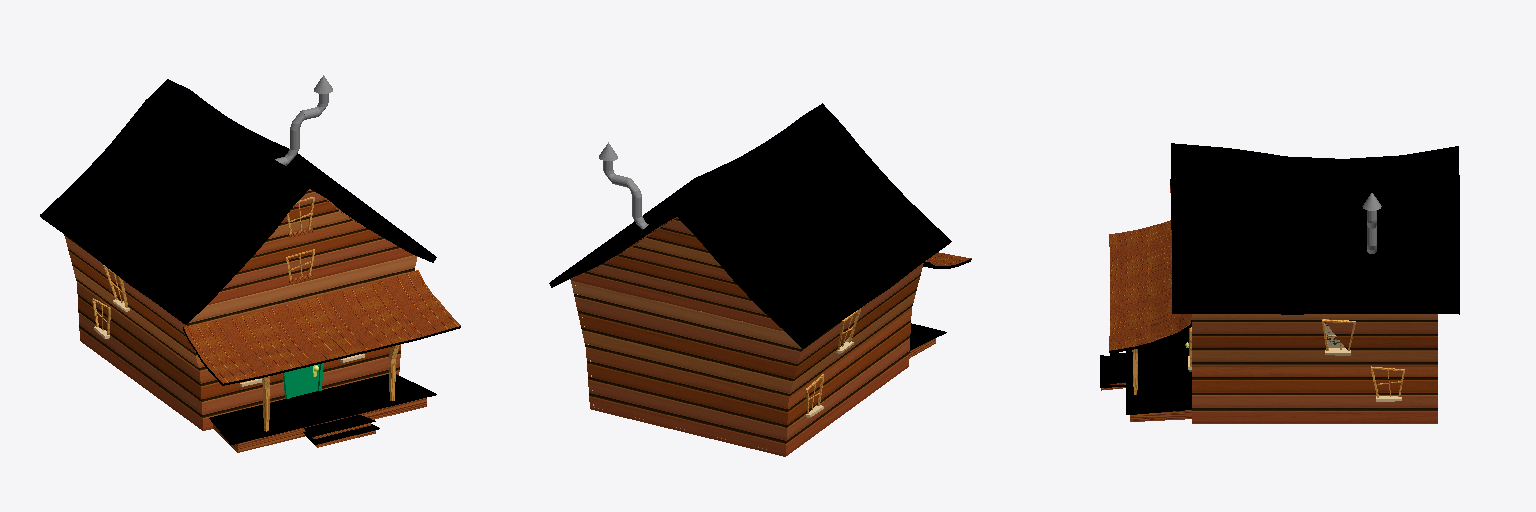
The picture shows the model from 3 angles: view 1: azimuth 30°, elevation 25°; view 2: azimuth 150°, elevation 25°; view 3: azimuth 270°, elevation 25°; orthographic projection.
Visible parts, largest first — view 1: pCube29; view 2: pCube29; view 3: pCube29.
Part boxes in pixels (x1,y1,x2,y2): pCube29: (40, 75, 460, 452); pCube29: (549, 103, 971, 456); pCube29: (1100, 143, 1459, 423).
Size of the model in its own units: 26.95 by 23.84 by 32.55.
13 materials, 9 textured.